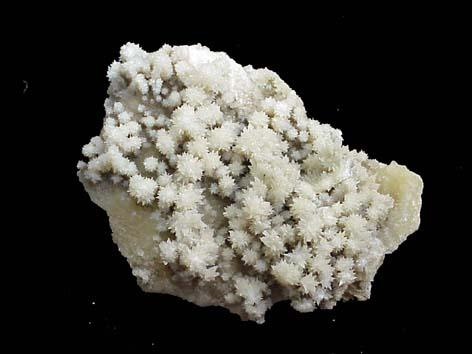calcite: (84, 182, 243, 310), (151, 46, 296, 98), (374, 161, 424, 254)
